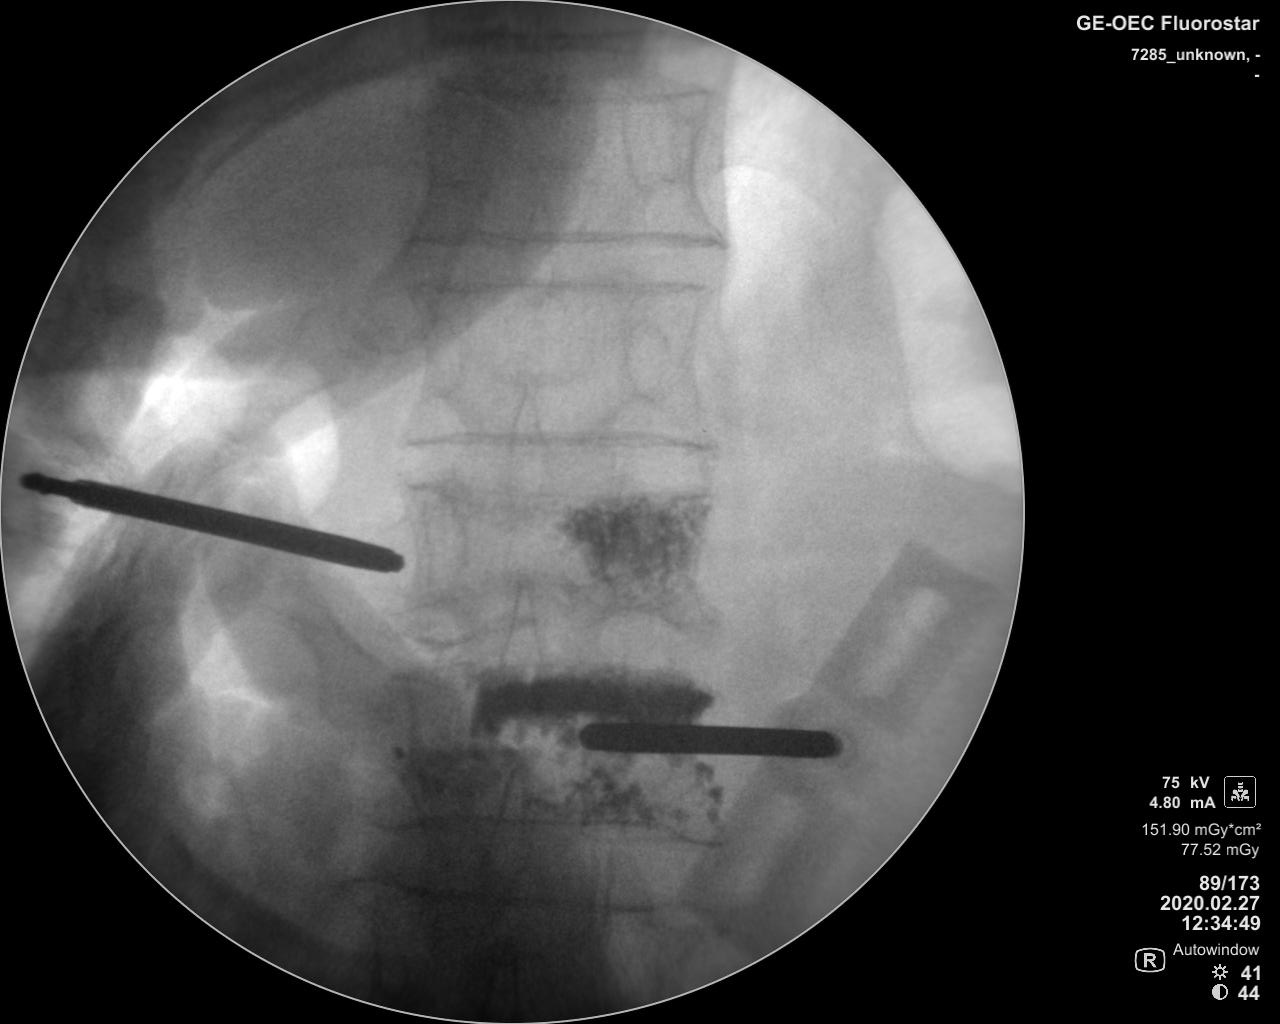eyes: (408, 495, 470, 600), (621, 320, 678, 406), (626, 112, 680, 193), (417, 313, 463, 398)
line: (366, 812, 726, 853), (354, 877, 670, 921), (398, 430, 722, 458), (415, 229, 734, 253), (432, 82, 719, 108), (430, 29, 677, 59), (411, 277, 719, 298)
nose: (480, 754, 533, 897), (502, 379, 548, 521), (515, 195, 557, 307), (503, 574, 544, 685), (486, 938, 527, 1024)
